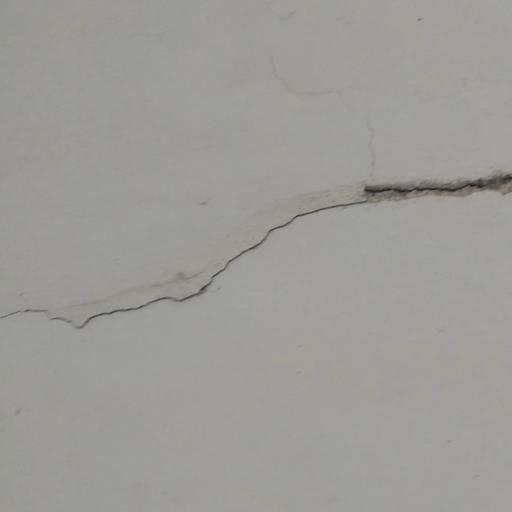major_crack: (18, 164, 512, 349)
